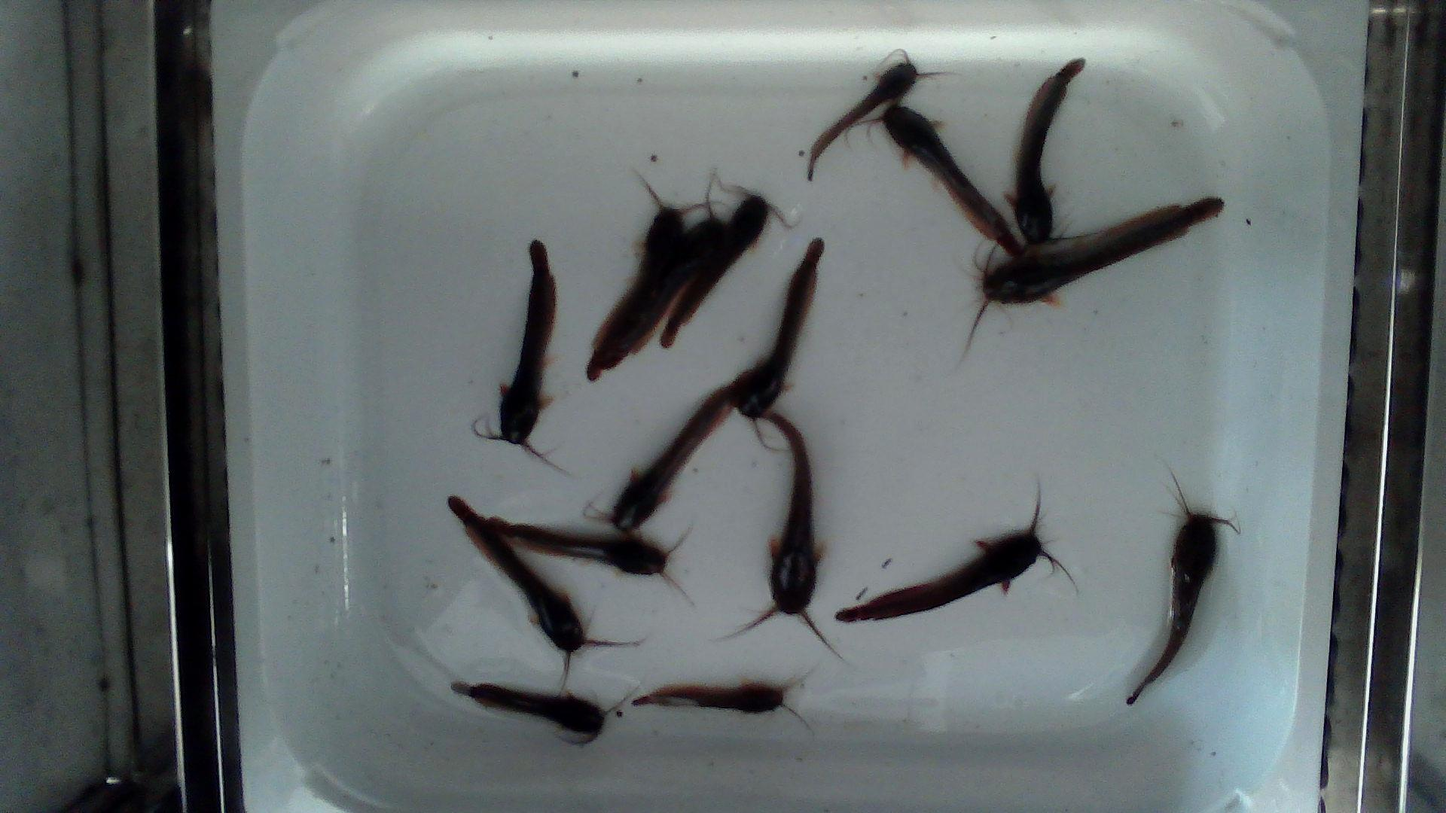lele: (610, 241, 822, 529), (586, 172, 708, 384), (656, 181, 806, 350), (983, 197, 1222, 303), (607, 169, 727, 369), (836, 519, 1048, 621), (880, 105, 1024, 254), (449, 498, 586, 653), (473, 241, 557, 474), (1127, 507, 1222, 704), (451, 498, 667, 574), (737, 239, 823, 419), (807, 54, 919, 179), (1011, 60, 1081, 242), (768, 411, 819, 620), (453, 683, 606, 741), (633, 683, 786, 713)
